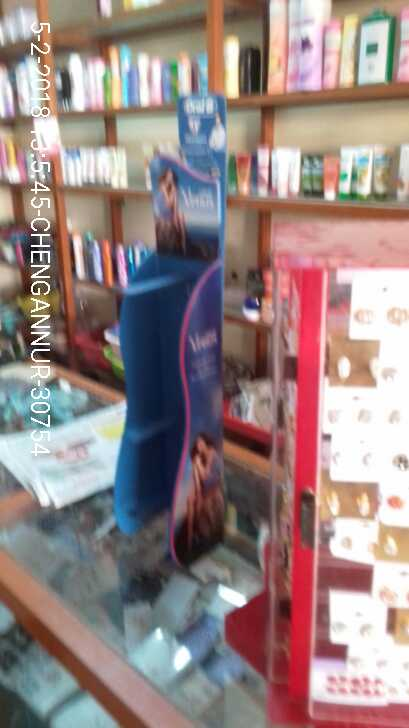reject: (104, 249, 265, 394)
